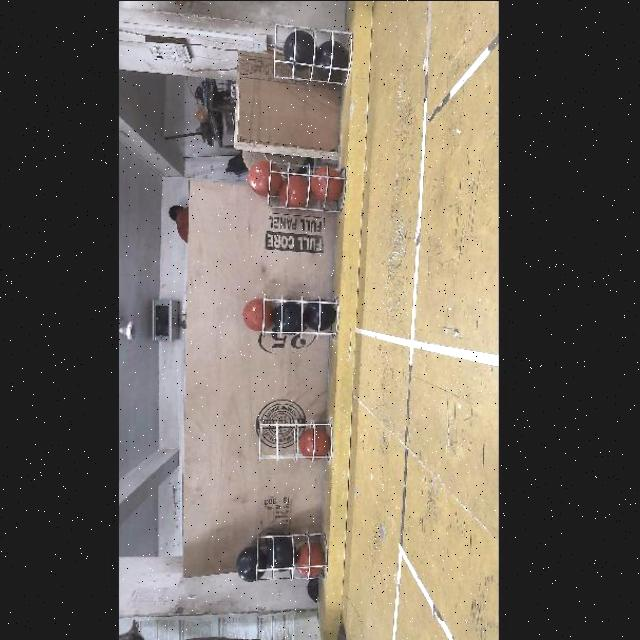P: (314, 38, 348, 78), (284, 29, 316, 69), (273, 299, 305, 333), (266, 536, 296, 572), (236, 546, 266, 582), (304, 299, 334, 329)
R: (247, 159, 282, 196), (308, 166, 342, 202), (242, 298, 274, 331), (297, 428, 329, 460), (295, 544, 325, 576), (279, 176, 309, 208)
S: (261, 154, 347, 218), (270, 27, 348, 88), (248, 528, 326, 588), (256, 416, 336, 466), (257, 296, 341, 342)
